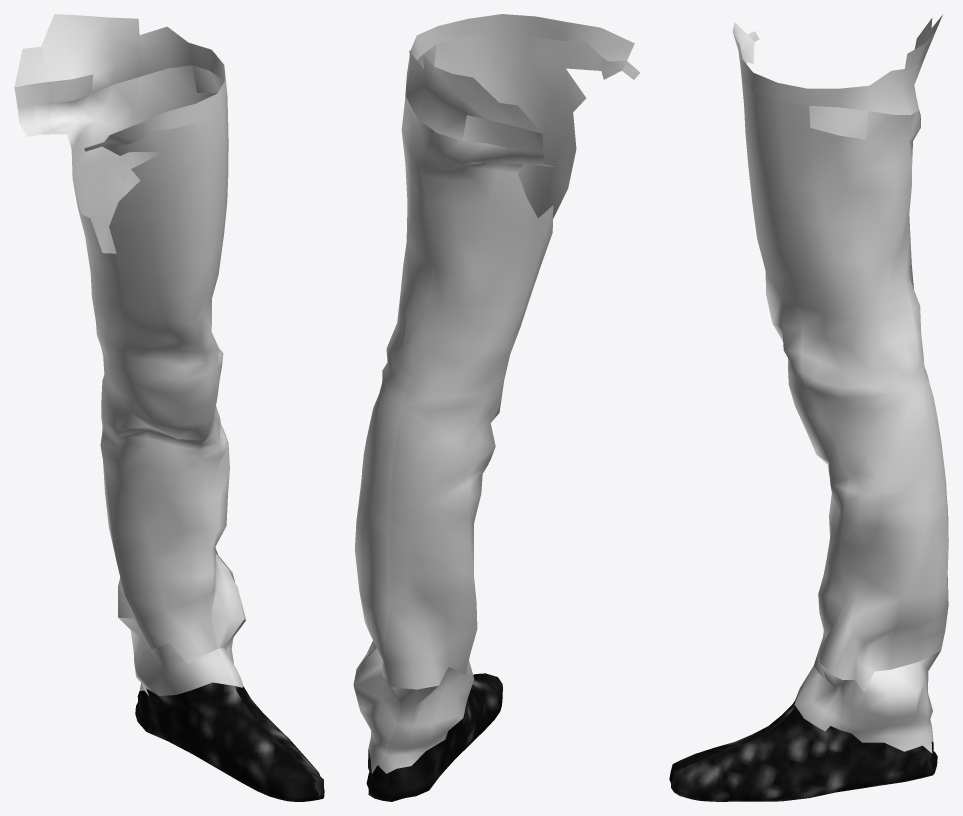
The model's file is Pierna_Izquierda.obj.
3 renders of one model, left to right at view 1: azimuth 30°, elevation 25°; view 2: azimuth 150°, elevation 25°; view 3: azimuth 270°, elevation 25°, orthographic. The views are drawn at different scales.
Parts seen in each view (by area): view 1: Pierna_Izquierda; view 2: Pierna_Izquierda; view 3: Pierna_Izquierda.
Part boxes in pixels (<box>): Pierna_Izquierda: <box>14,14,324,801</box>; Pierna_Izquierda: <box>353,14,640,801</box>; Pierna_Izquierda: <box>669,15,948,801</box>.
Bounding box in the file's own units: 9.65 × 30.85 × 10.86.
2 materials, 2 textured.
